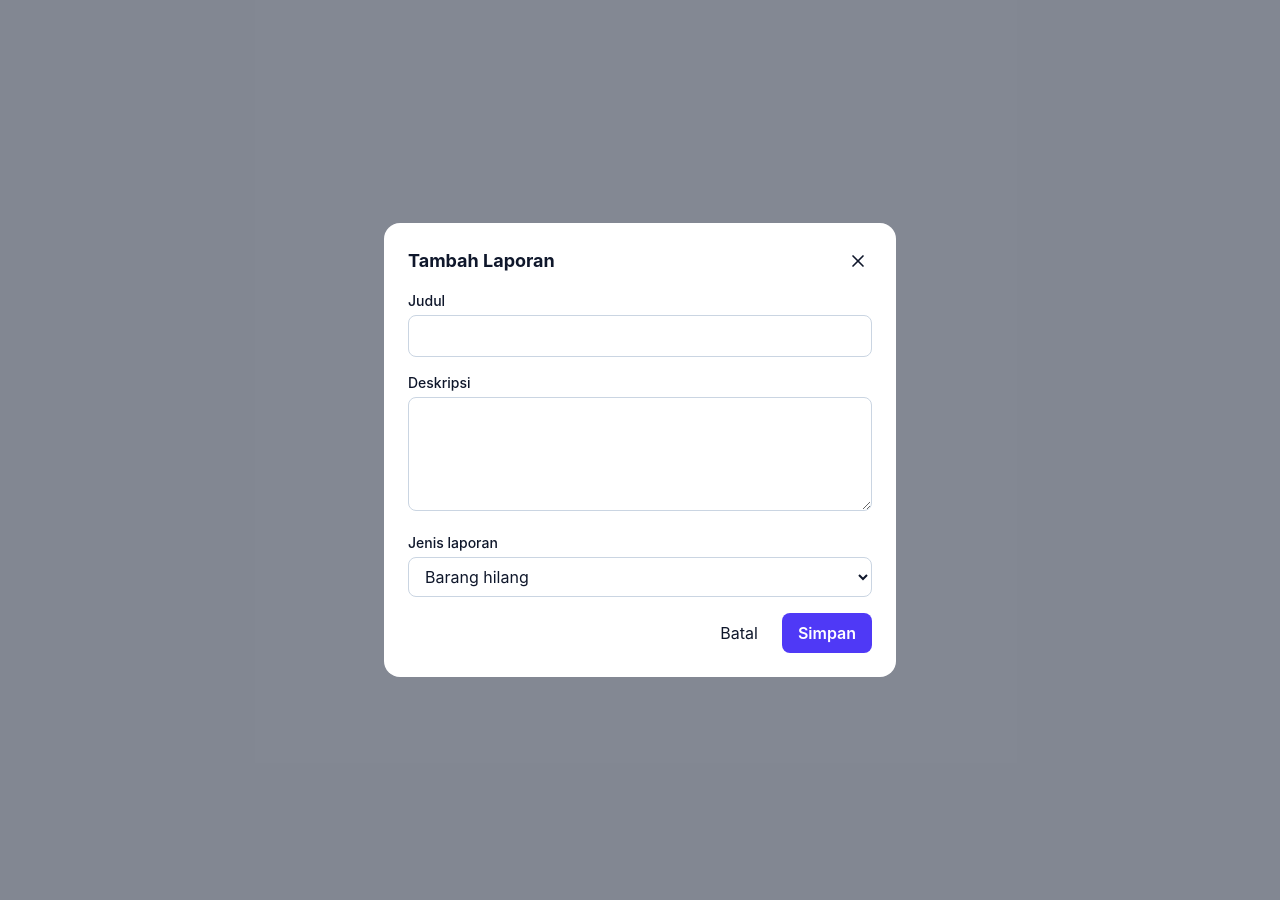
it: AddModal › menampilkan pesan validasi dan tidak mengirim jika formulir kosong
Click the button "Simpan" at [827, 633], box [782, 613, 872, 653]
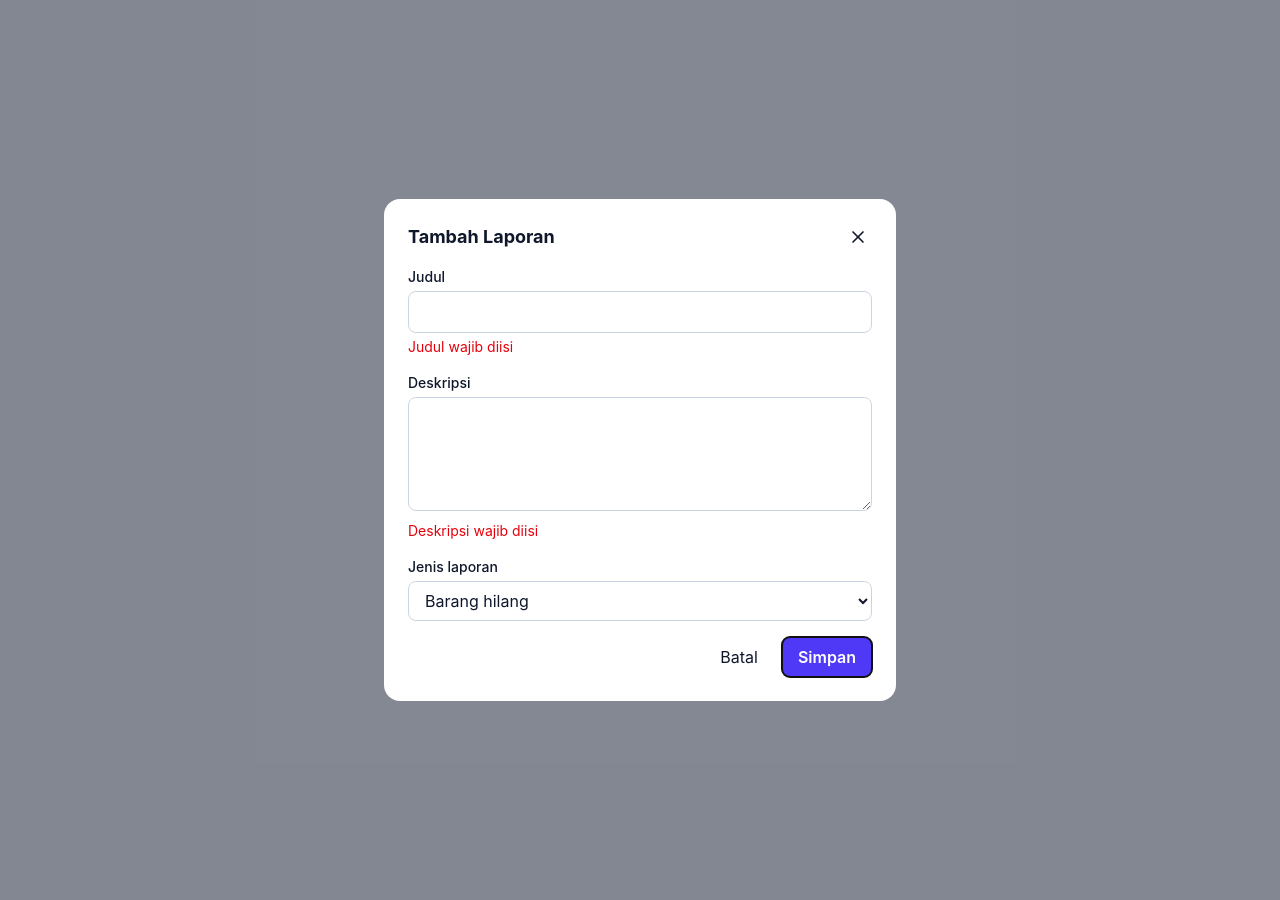
Now the text "Judul wajib diisi" is shown, box [408, 338, 513, 355]
Now the text "Deskripsi wajib diisi" is shown, box [408, 522, 538, 539]
